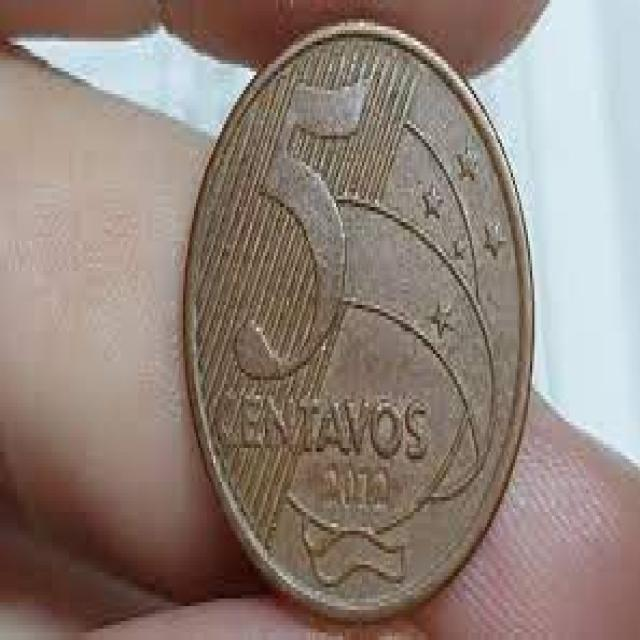5 cent: (190, 25, 527, 597)
